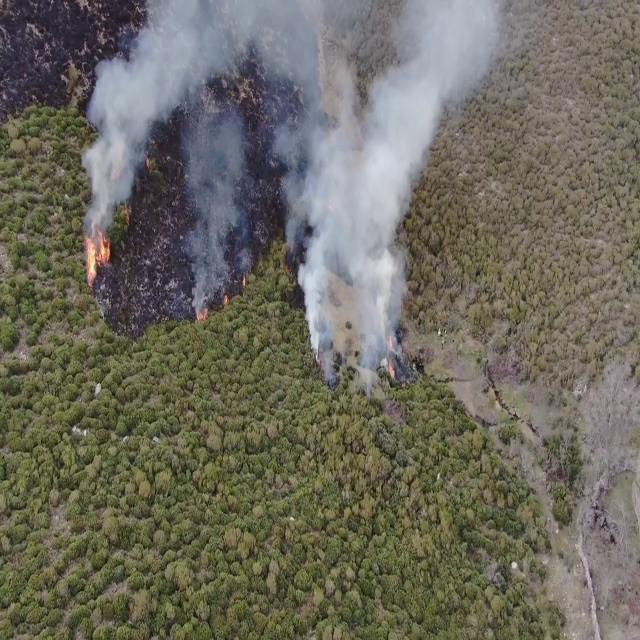Fire: (84, 228, 112, 282)
Smoke: (275, 1, 491, 380), (80, 1, 262, 300)
